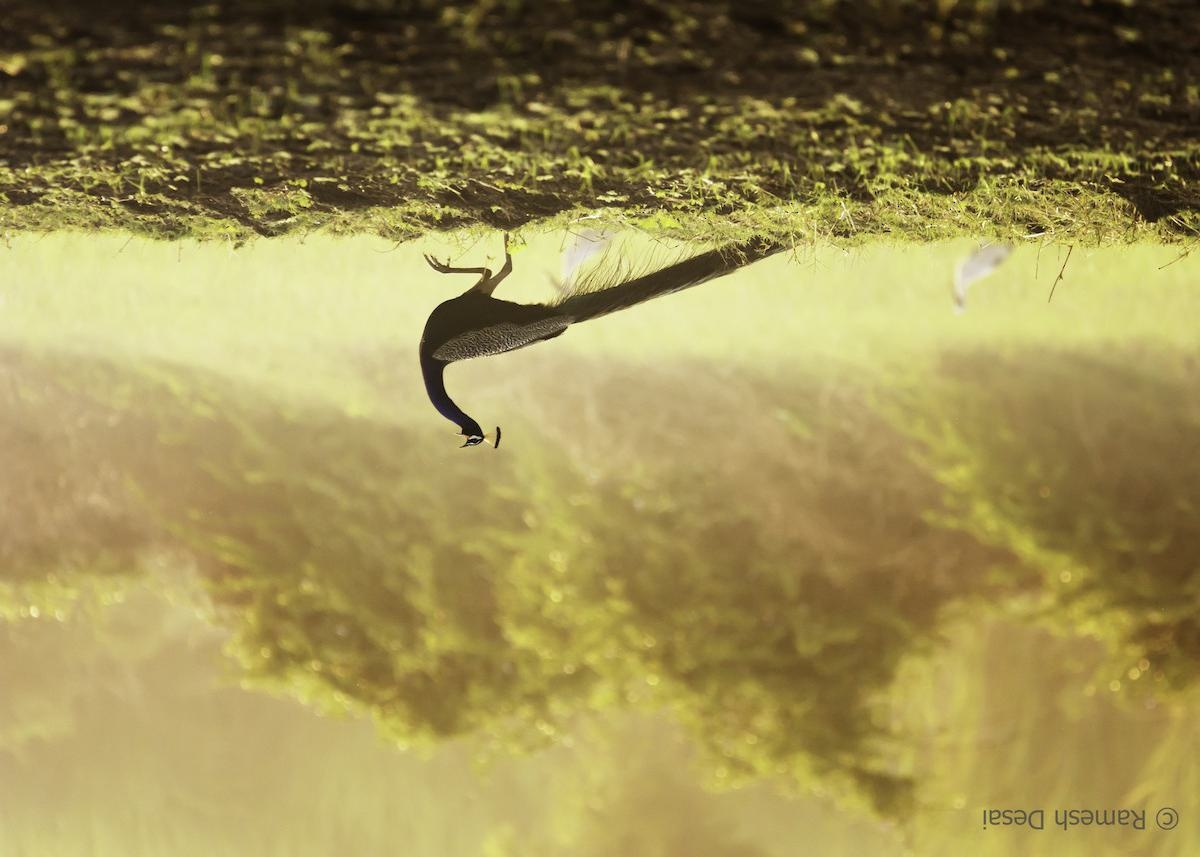peacock: (398, 209, 799, 468)
